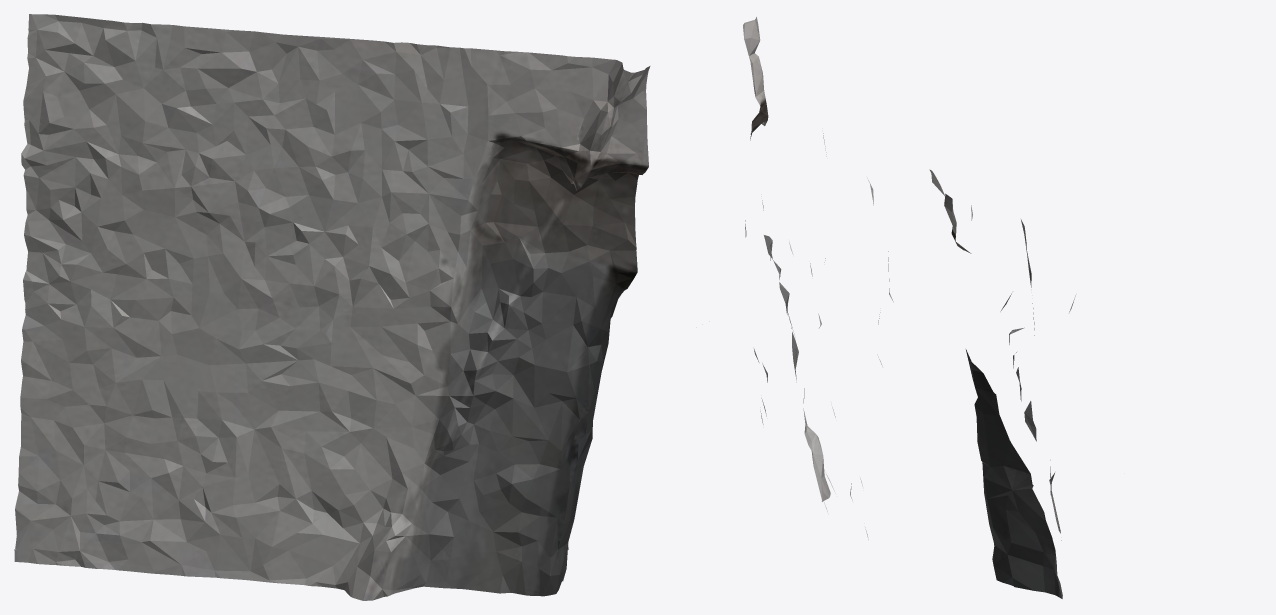
3 views of the same model, side by side, from view 1: azimuth 30°, elevation 25°; view 2: azimuth 150°, elevation 25°; view 3: azimuth 270°, elevation 25° (orthographic). The views are drawn at different scales.
Bounding box in the file's own units: 0.6885 × 0.8374 × 0.59.
Materials: 2 (2 with a texture image).
